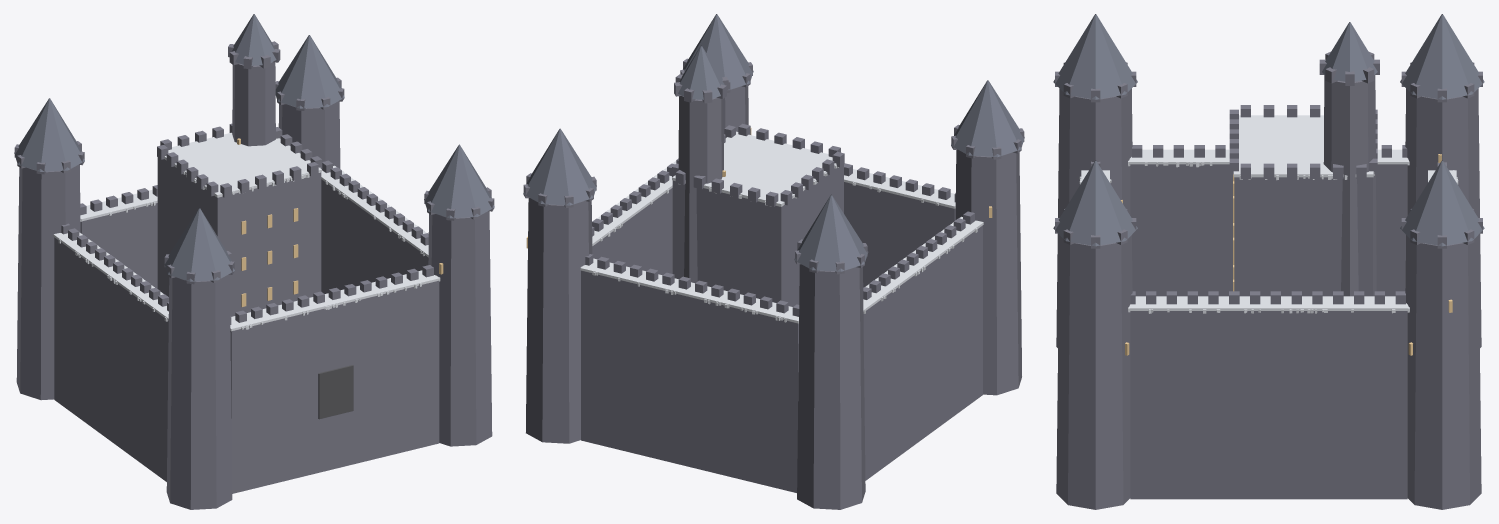
The model's file is snowkit.glb.
3 views of the same model, side by side, from view 1: azimuth 30°, elevation 25°; view 2: azimuth 150°, elevation 25°; view 3: azimuth 270°, elevation 25° (orthographic). The views are drawn at different scales.
Parts seen in each view (by area): view 1: Castle; view 2: Castle; view 3: Castle.
Part boxes in pixels (box(x1,y1,x2,y2)): Castle: box(14, 14, 494, 509); Castle: box(523, 14, 1024, 509); Castle: box(1053, 14, 1484, 509).
Bounding box in the file's own units: 37.34 × 39.86 × 37.34.
